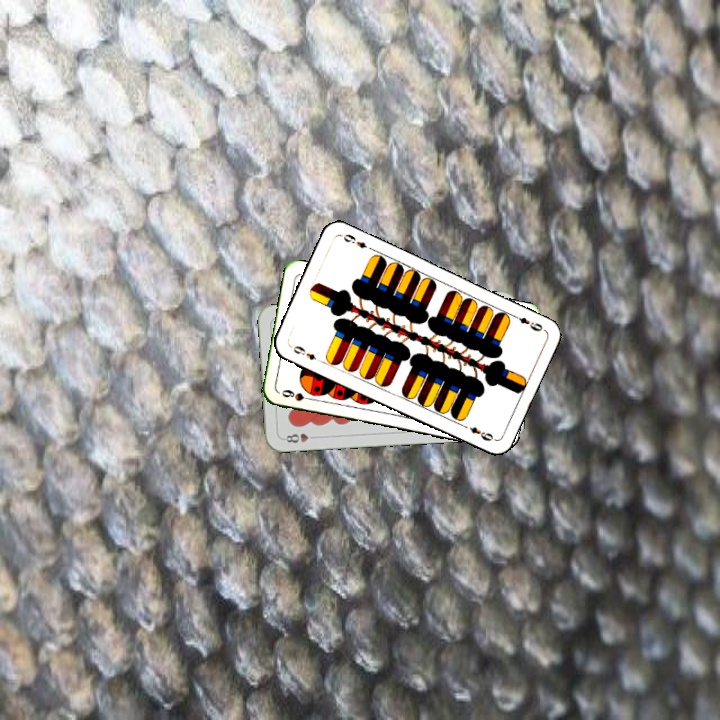E9: (508, 310, 546, 334), (286, 342, 319, 363)
H8: (279, 429, 320, 445)
S9: (277, 385, 317, 404)
